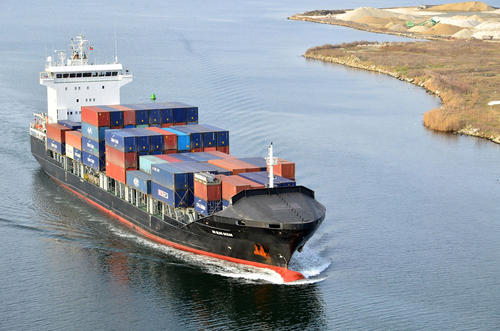Cargoship: (29, 33, 329, 277)
